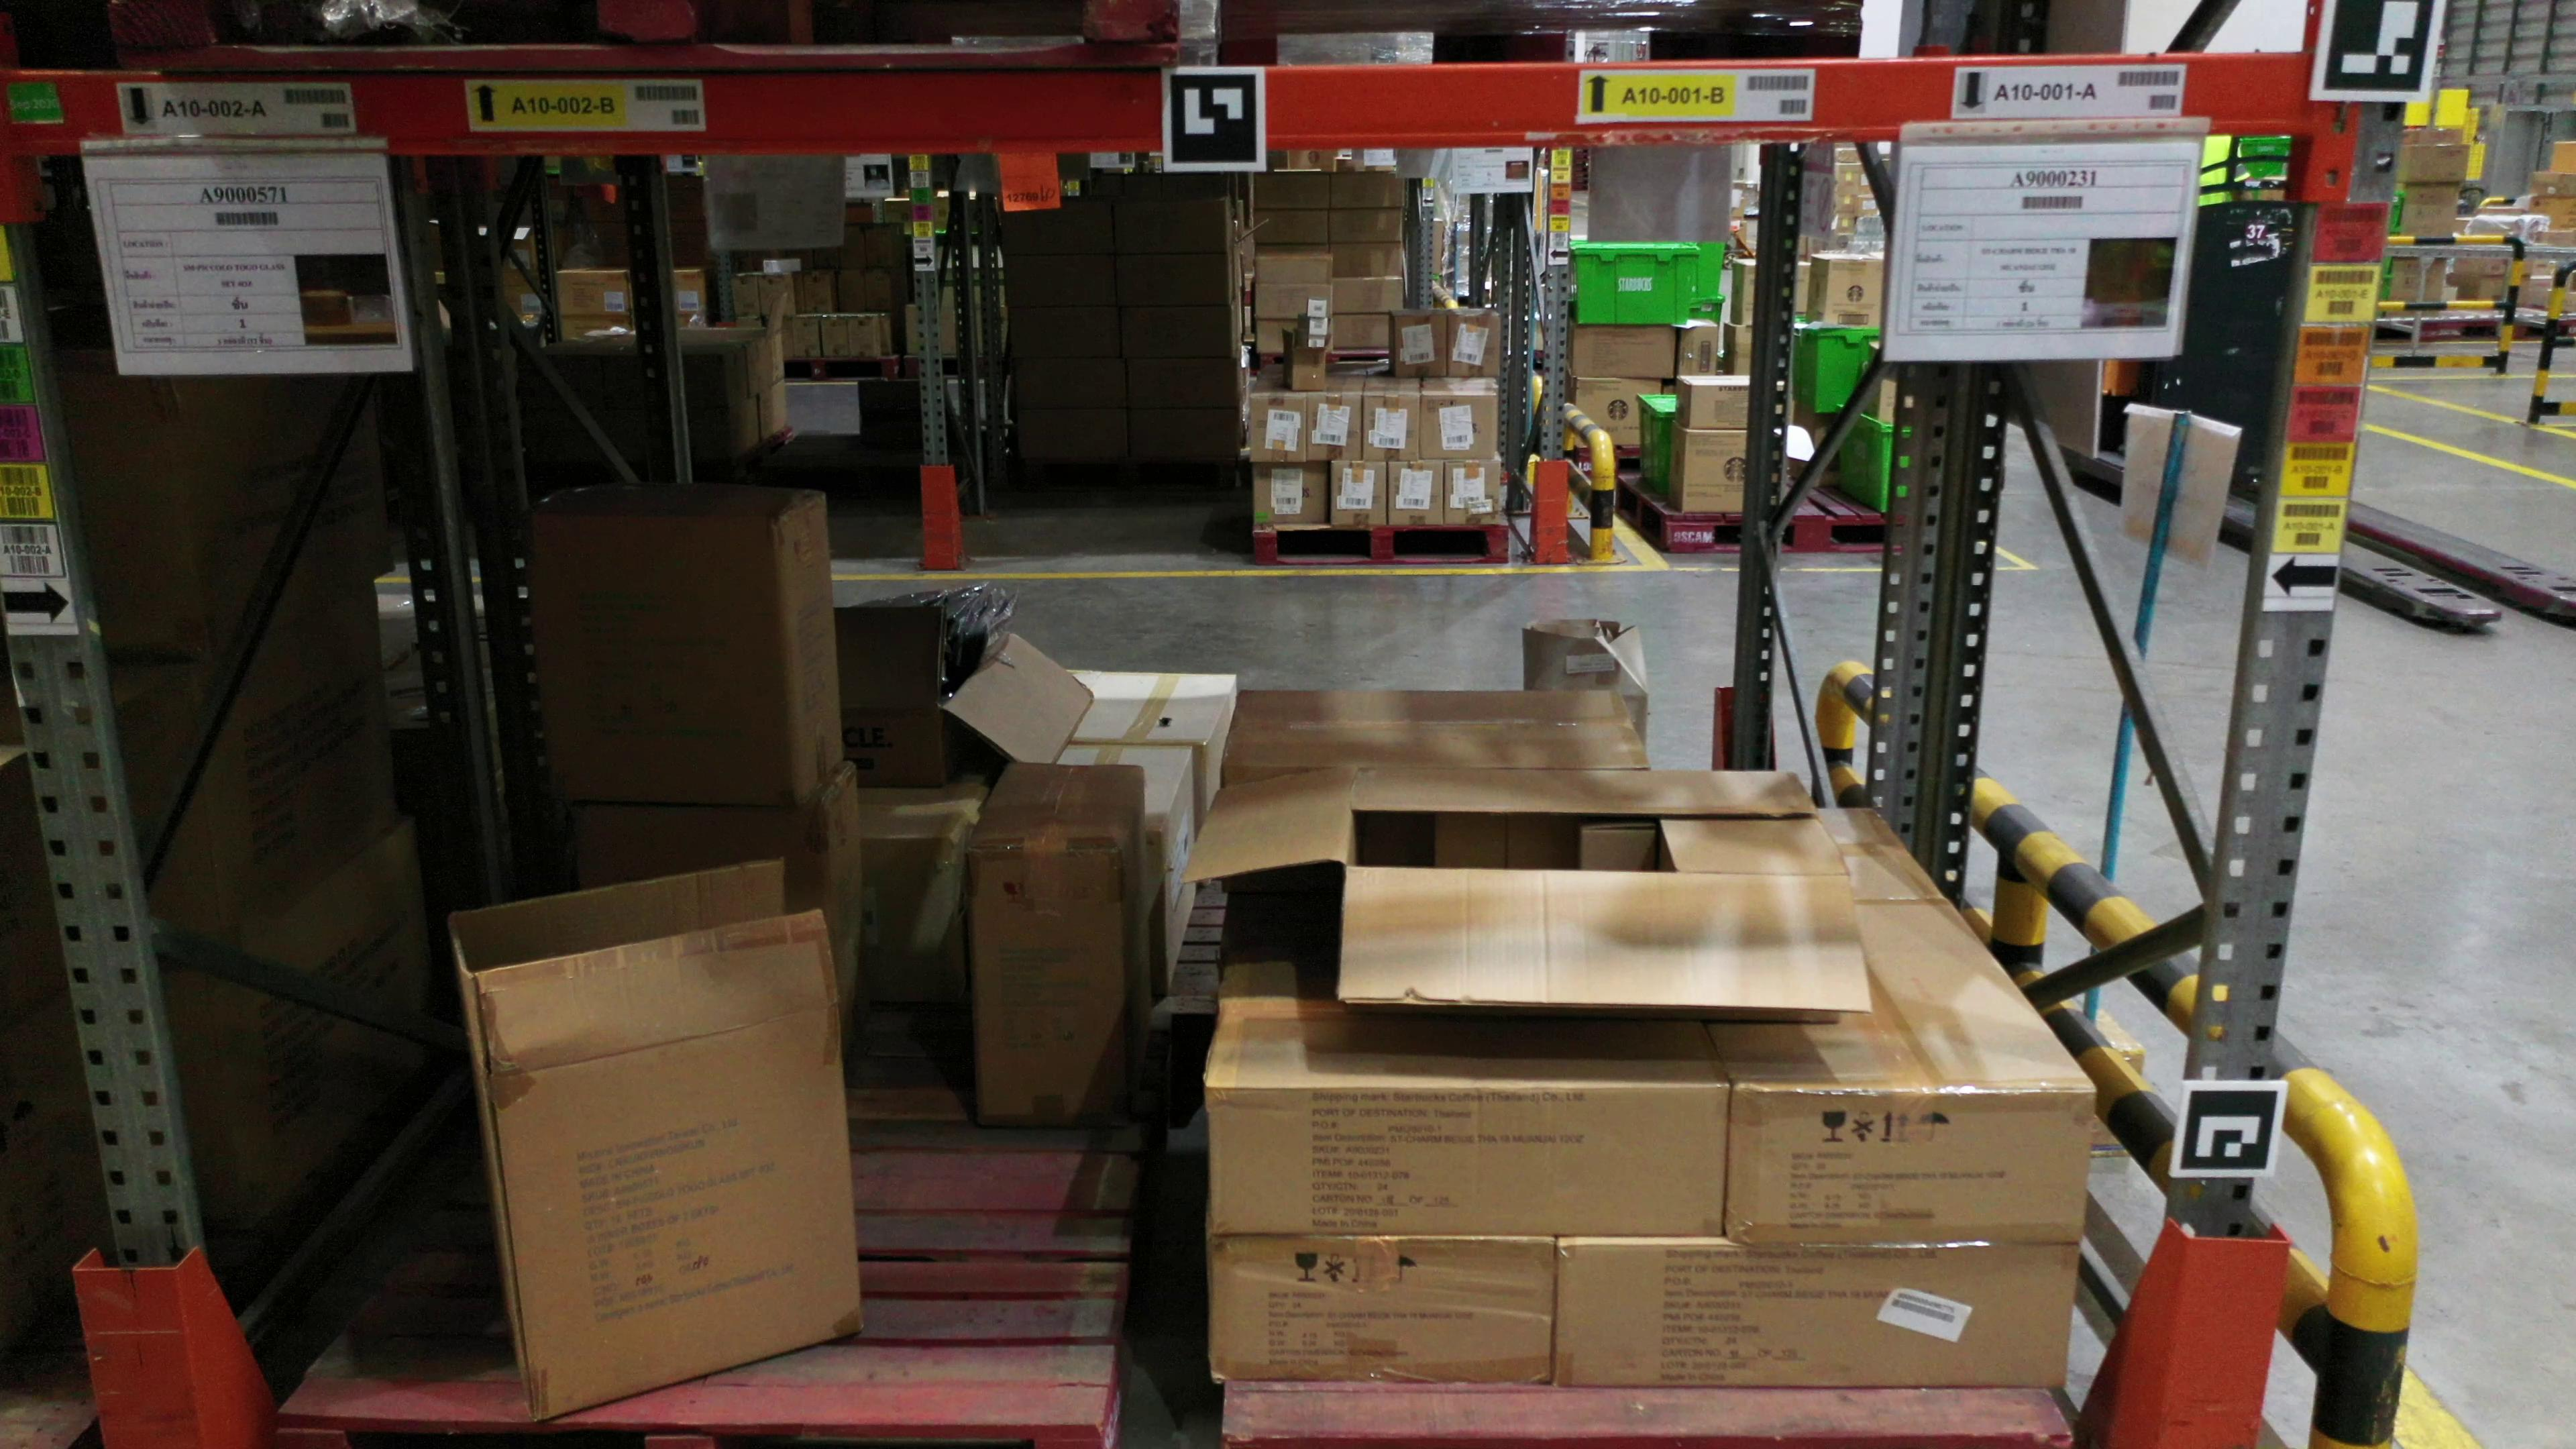-: (485, 1001, 870, 1417), (1336, 865, 1881, 1024), (1207, 1085, 1729, 1240), (1552, 1238, 2079, 1392), (527, 515, 800, 803), (1729, 1085, 2091, 1244), (1210, 1235, 1557, 1389), (977, 837, 1129, 1118)
